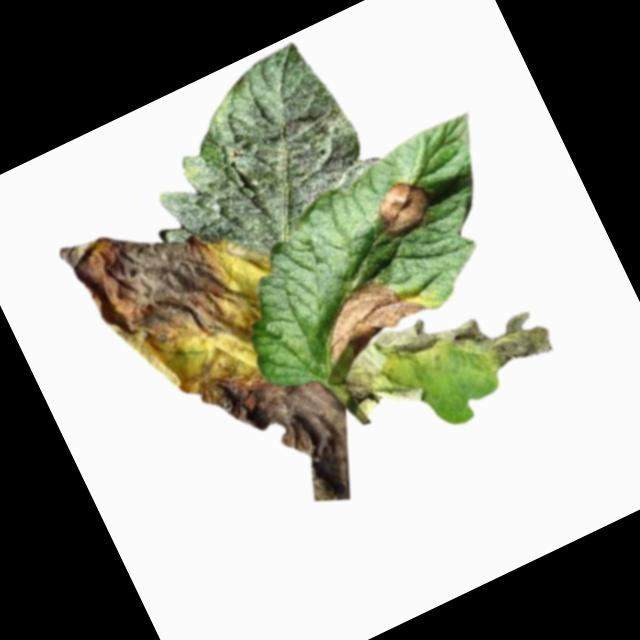Late_blight: (48, 181, 262, 389), (187, 331, 383, 542), (330, 267, 558, 440), (298, 261, 431, 368), (363, 173, 439, 246)
